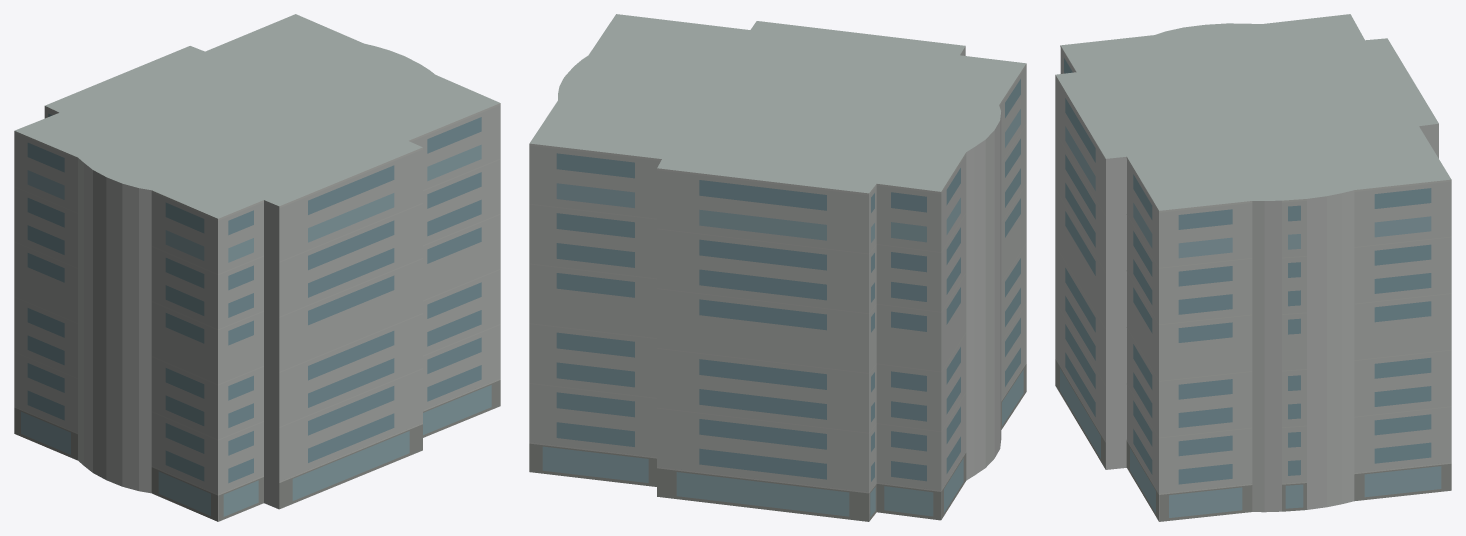
Rendered from survey-upis-32954459.glb.
3 renders of one model, left to right at view 1: azimuth 30°, elevation 25°; view 2: azimuth 150°, elevation 25°; view 3: azimuth 270°, elevation 25°, orthographic. The views are drawn at different scales.
Visible parts, largest first — view 1: survey-upis-32954459.tmp; view 2: survey-upis-32954459.tmp; view 3: survey-upis-32954459.tmp.
Boxes of the visible parts, left/top/right/bottom form: survey-upis-32954459.tmp: left=14, top=14, right=500, bottom=521; survey-upis-32954459.tmp: left=529, top=14, right=1026, bottom=521; survey-upis-32954459.tmp: left=1055, top=14, right=1451, bottom=521.
Bounding box in the file's own units: 53.22 × 39.2 × 45.27.
